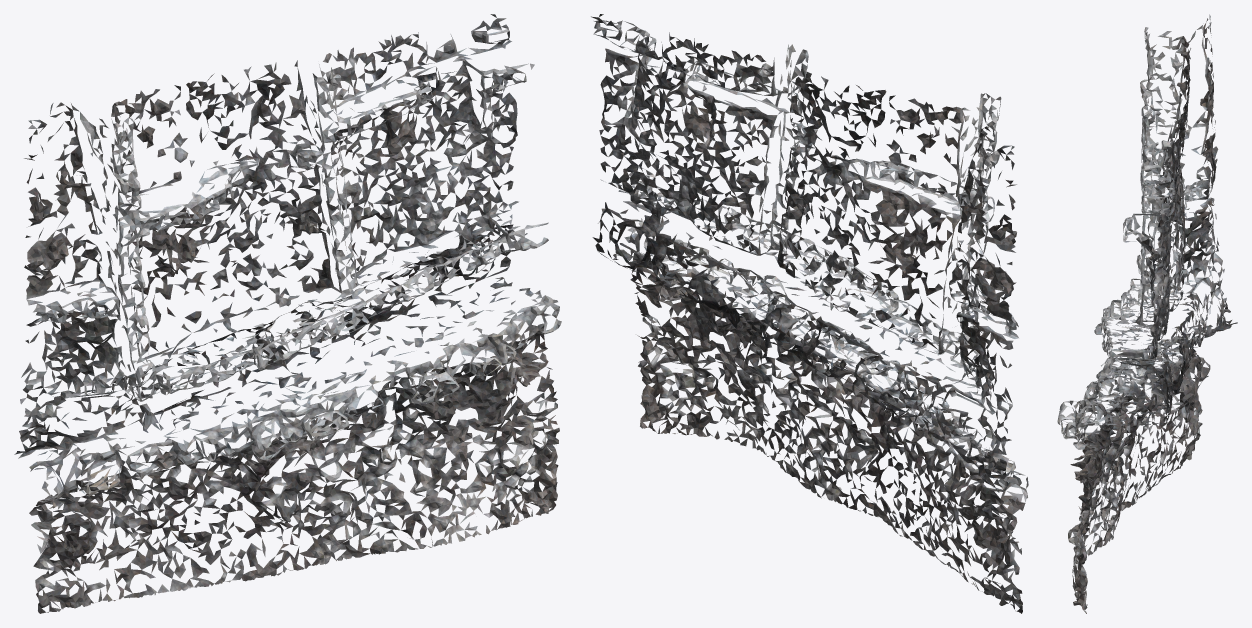
3 renders of one model, left to right at view 1: azimuth 30°, elevation 25°; view 2: azimuth 150°, elevation 25°; view 3: azimuth 270°, elevation 25°, orthographic. The views are drawn at different scales.
Bounding box in the file's own units: 13.5 × 13.96 × 5.1.
Materials: 1 (1 with a texture image).
